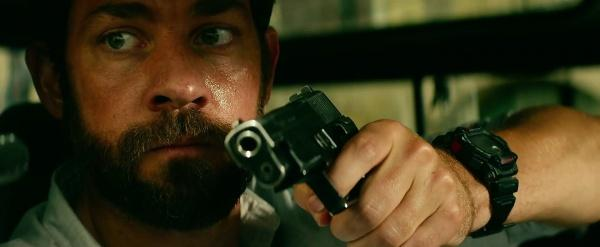Gun: (223, 87, 372, 210)
